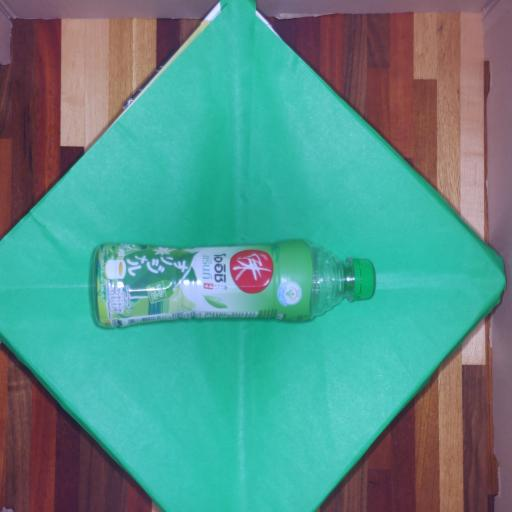bottle: (79, 227, 386, 339)
